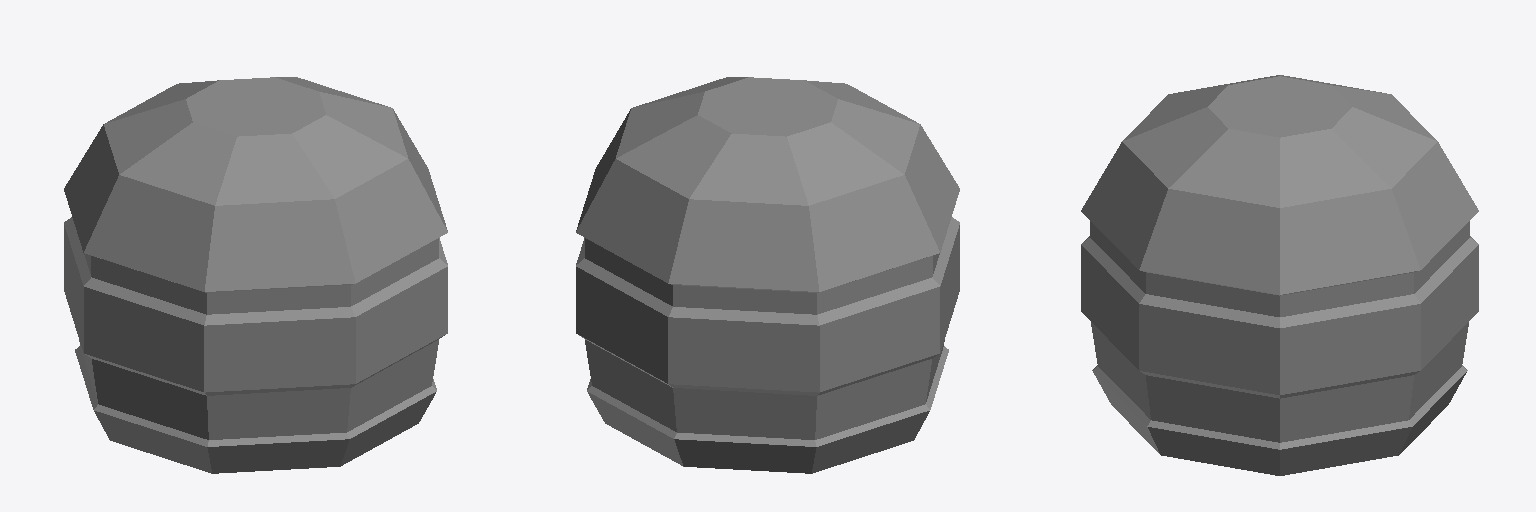
The model's file is burger.obj.
3 views of the same model, side by side, from view 1: azimuth 30°, elevation 25°; view 2: azimuth 150°, elevation 25°; view 3: azimuth 270°, elevation 25° (orthographic).
Visible parts, largest first — view 1: hamburguesa; view 2: hamburguesa; view 3: hamburguesa.
Boxes of the visible parts, box(x1,y1,x2,y2) form: hamburguesa: box(64, 77, 447, 473); hamburguesa: box(576, 77, 959, 473); hamburguesa: box(1081, 75, 1478, 475).
Bounding box in the file's own units: 30.95 × 25.56 × 30.95.